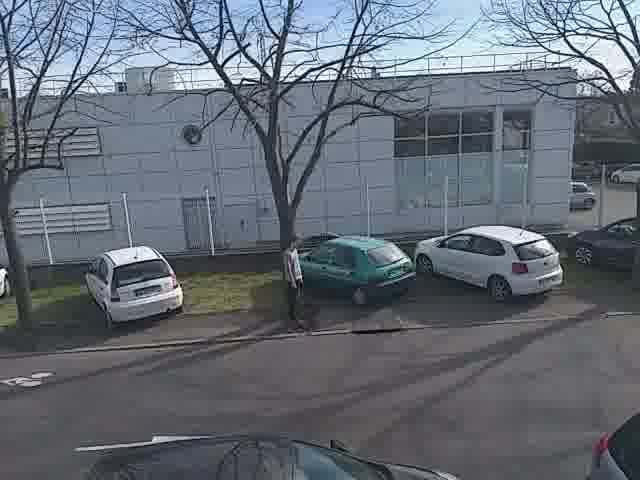persona: (276, 229, 311, 334)
